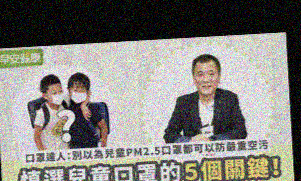with_mask: (69, 85, 88, 104), (47, 87, 65, 105)
without_mask: (194, 67, 219, 95)
